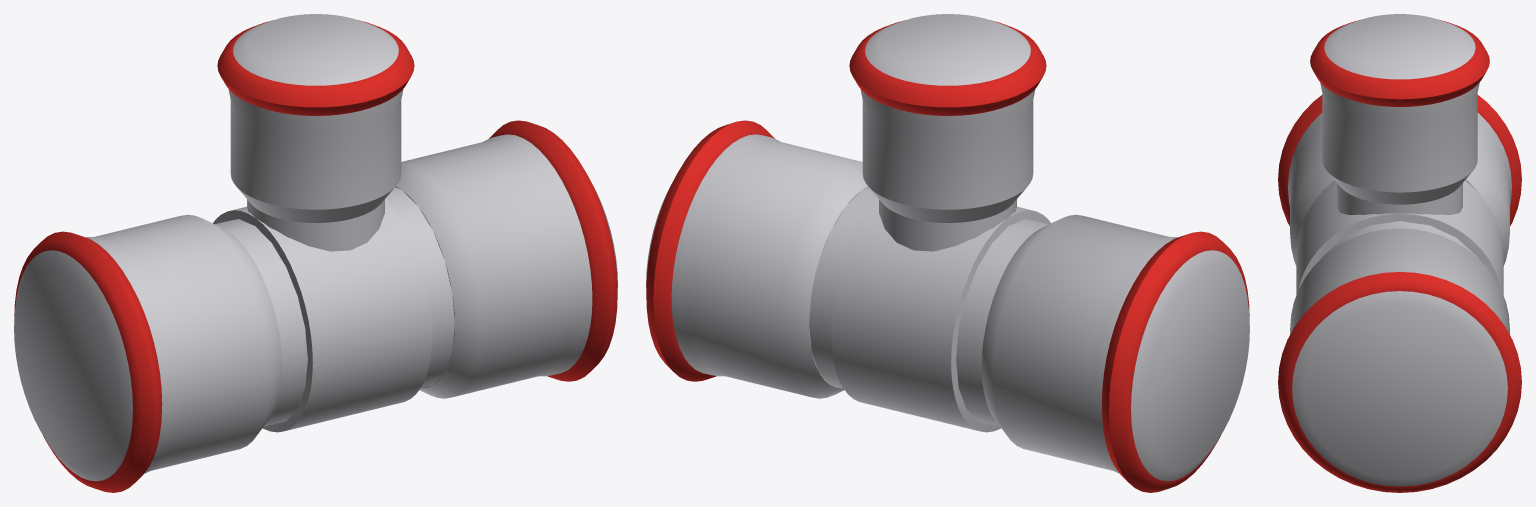
The model's file is fitting_tee_35x22_r.glb.
The picture shows the model from 3 angles, left to right: view 1: azimuth 30°, elevation 25°; view 2: azimuth 150°, elevation 25°; view 3: azimuth 270°, elevation 25°; orthographic projection. The views are drawn at different scales.
Parts seen in each view (by area): view 1: раструб.001, раструб, раструб.002, узел, корпус, кольцо пресс.001, кольцо пресс, кольцо пресс.002, корпус.001; view 2: раструб.001, раструб, раструб.002, узел, корпус, кольцо пресс.001, кольцо пресс, кольцо пресс.002, корпус.001; view 3: раструб, раструб.002, кольцо пресс, узел, раструб.001, кольцо пресс.002, кольцо пресс.001, корпус.001, корпус.
Boxes of the visible parts, box(x1,y1,x2,y2) form: раструб.001: box(14, 214, 282, 481); раструб: box(395, 134, 617, 398); раструб.002: box(228, 14, 403, 222); узел: box(213, 198, 432, 432); корпус: box(214, 187, 454, 426); кольцо пресс.001: box(14, 231, 162, 492); кольцо пресс: box(489, 120, 617, 381); кольцо пресс.002: box(217, 20, 414, 115); корпус.001: box(247, 199, 384, 251); раструб.001: box(981, 214, 1249, 481); раструб: box(646, 134, 868, 398); раструб.002: box(860, 14, 1035, 222); узел: box(831, 198, 1050, 432); корпус: box(809, 187, 1049, 426); кольцо пресс.001: box(1101, 231, 1249, 492); кольцо пресс: box(646, 120, 774, 381); кольцо пресс.002: box(849, 20, 1046, 115); корпус.001: box(879, 199, 1016, 251); раструб: box(1290, 228, 1509, 486); раструб.002: box(1320, 14, 1479, 204); кольцо пресс: box(1278, 272, 1521, 492); узел: box(1296, 181, 1503, 294); раструб.001: box(1288, 113, 1511, 265); кольцо пресс.002: box(1310, 20, 1489, 106); кольцо пресс.001: box(1278, 95, 1521, 226); корпус.001: box(1337, 183, 1462, 214); корпус: box(1321, 180, 1478, 257).
Bounding box in the file's own units: 0.104 × 0.0766 × 0.0483.
